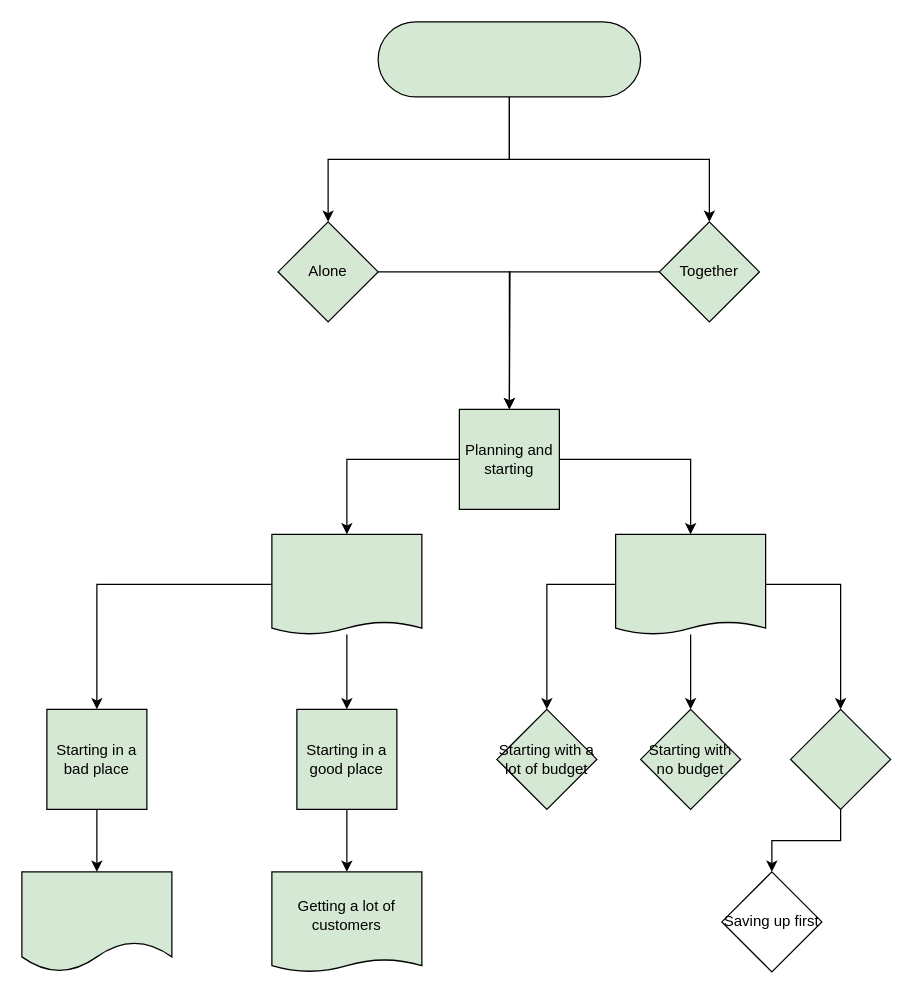
The diagram is 913 pixels wide and 994 high, and some of its shapes have lost their labels. The box of each missing label's shape, as (x1, y1, x2, y2) in pixels:
Getting little to no customers: (21, 871, 172, 972)
Knowing how to start: (614, 533, 766, 634)
Knowing where to start: (271, 533, 422, 634)
Starting a business: (377, 21, 641, 97)
Starting with little budget: (789, 708, 891, 809)
